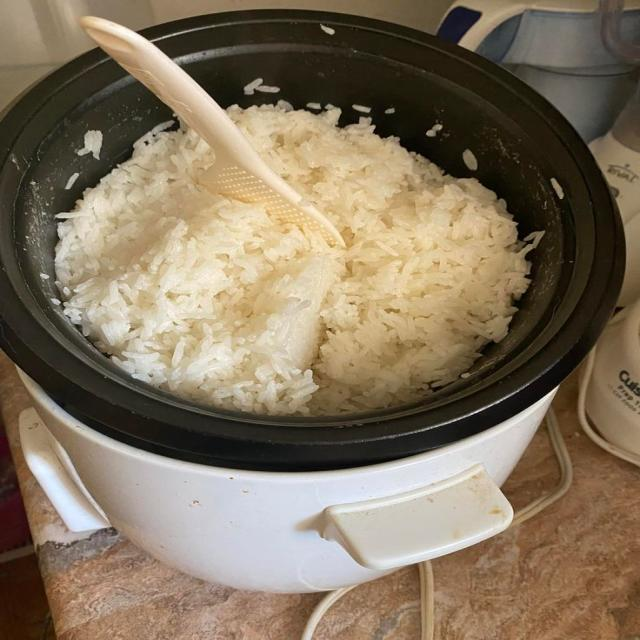rice: (56, 106, 530, 414), (77, 130, 102, 159), (462, 149, 478, 170), (244, 78, 263, 95), (65, 173, 79, 189), (256, 85, 280, 93), (352, 104, 371, 113), (320, 24, 335, 35), (307, 102, 321, 110), (385, 107, 395, 114)
